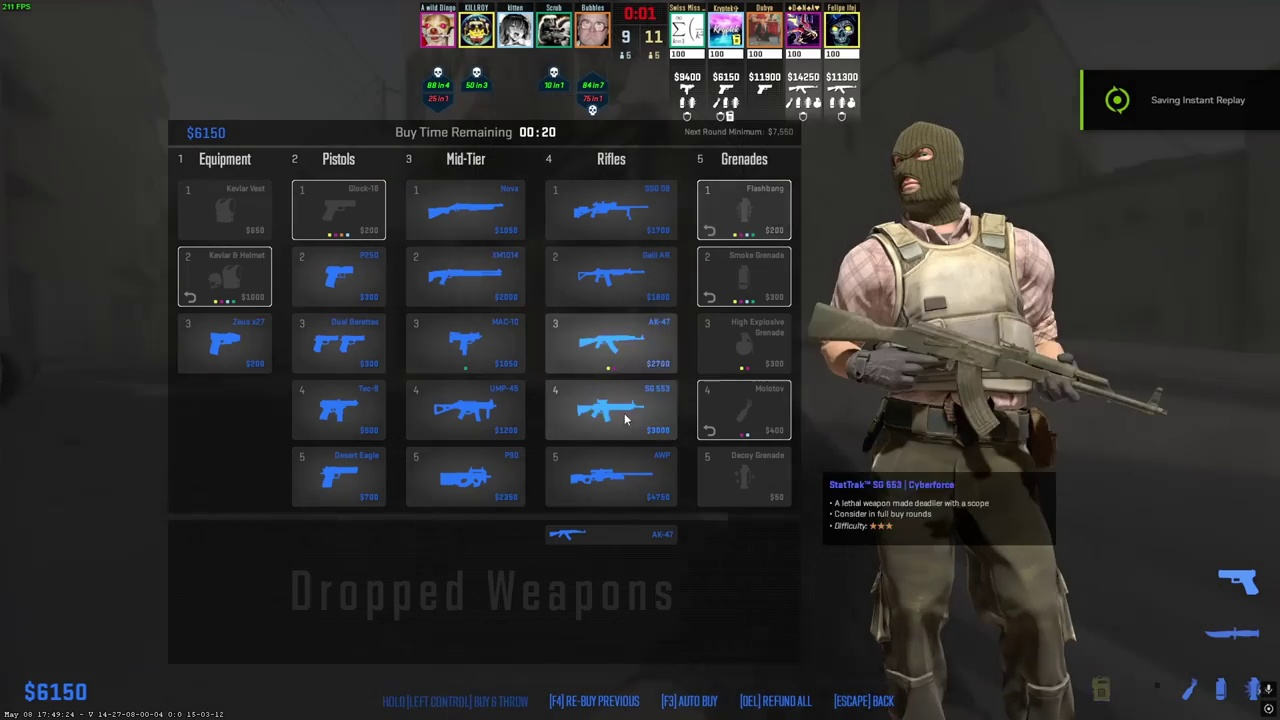Terrorist: (843, 122, 1080, 720)
